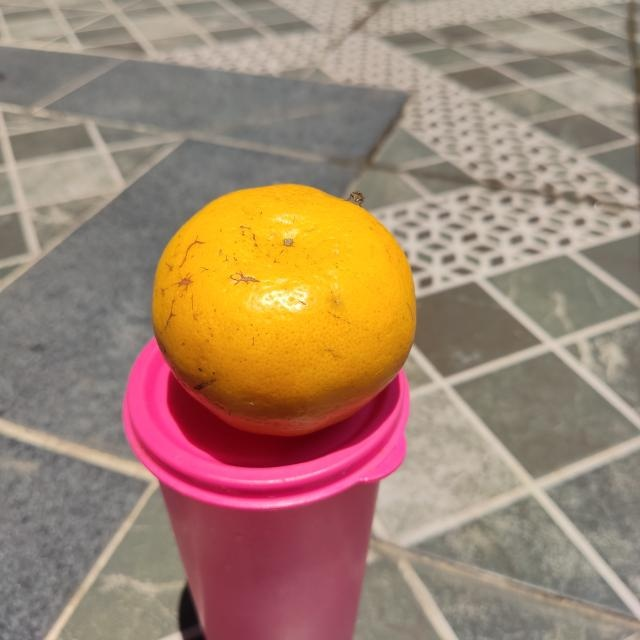agrume: (146, 180, 422, 439)
